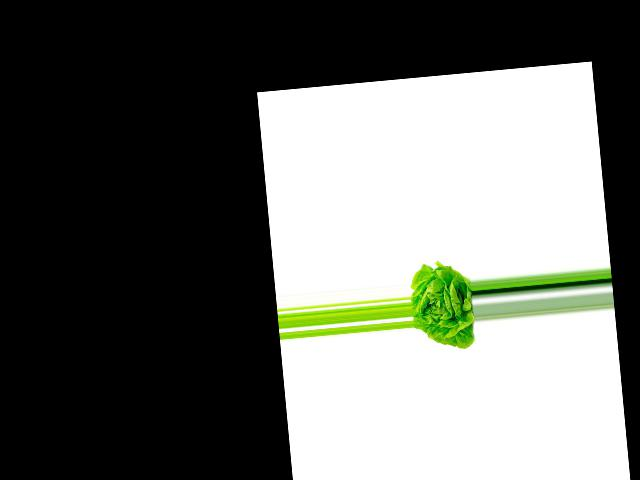lettuce: (408, 262, 477, 354)
